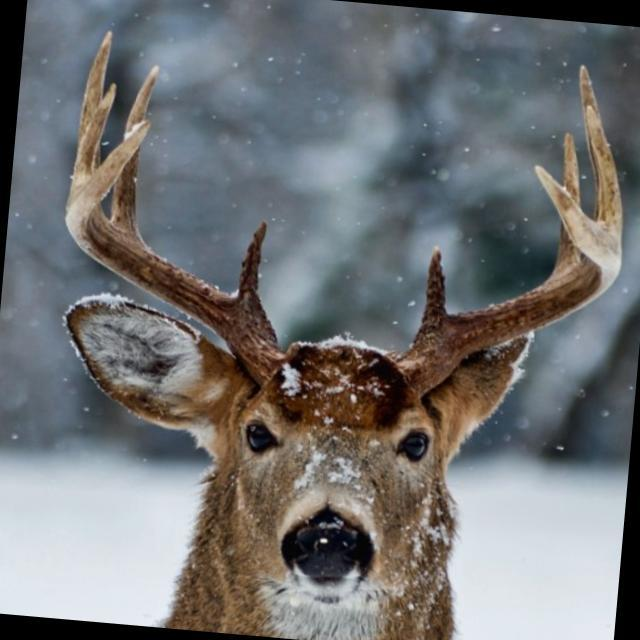L-F: (398, 165, 623, 393)
L-G1: (419, 246, 449, 328)
R-F: (63, 117, 283, 384)
R-G1: (233, 220, 268, 306)
